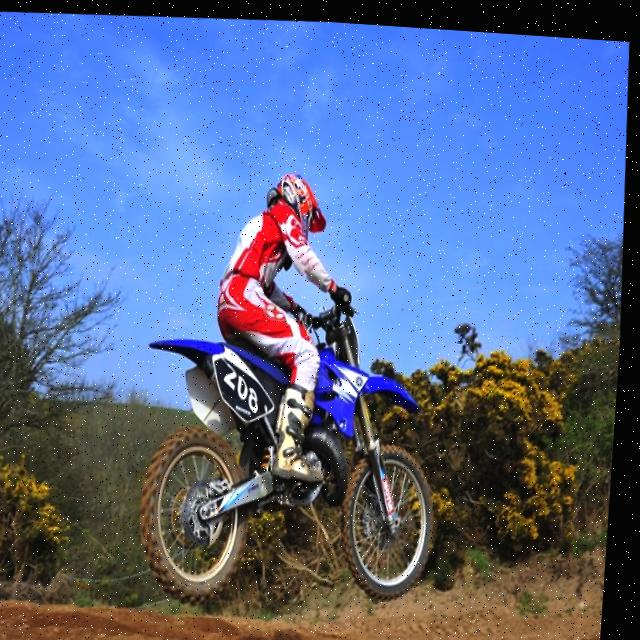motorcycle: (119, 278, 458, 619)
